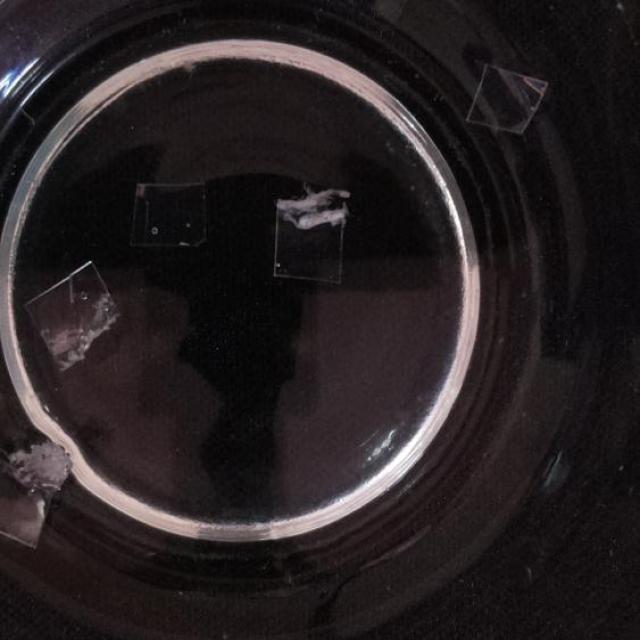fiber: (19, 259, 122, 375), (0, 429, 81, 555), (268, 180, 352, 287), (127, 172, 211, 252), (462, 58, 547, 136)
